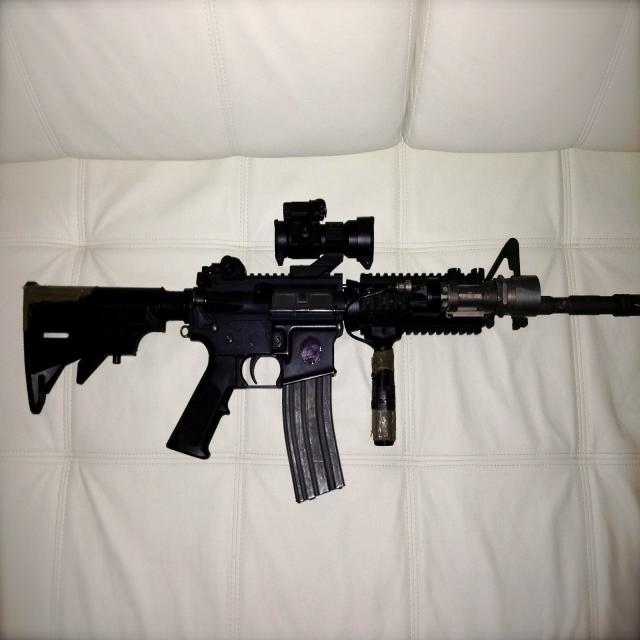firearm: (21, 196, 640, 504)
